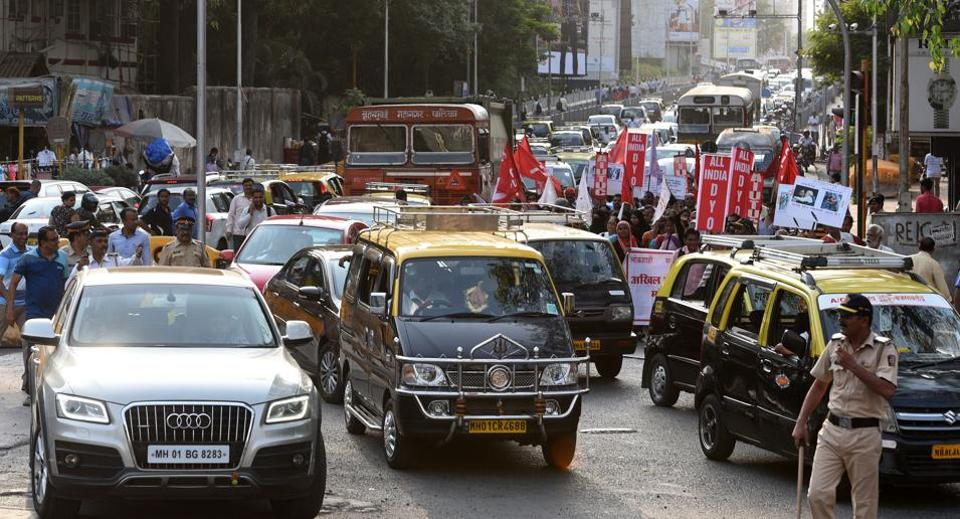number_plate: (145, 440, 233, 466), (465, 415, 530, 436)
